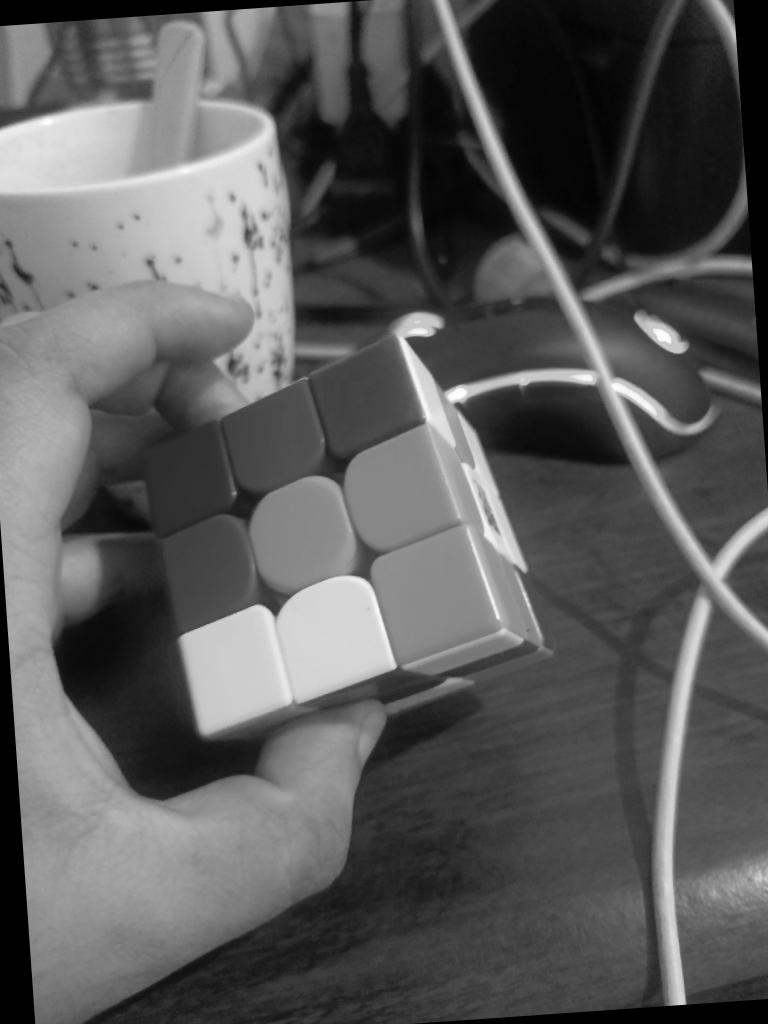rubik: (131, 322, 562, 744)
